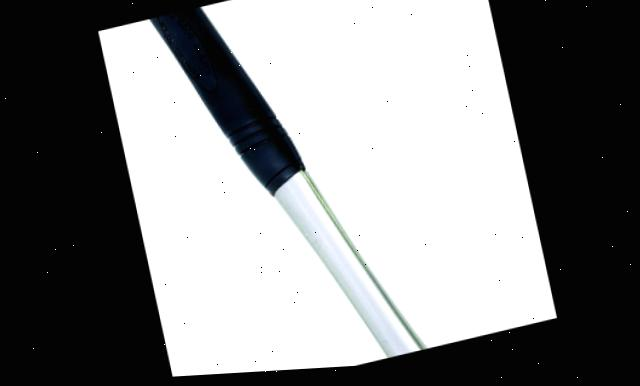hammer: (96, 0, 554, 382)
